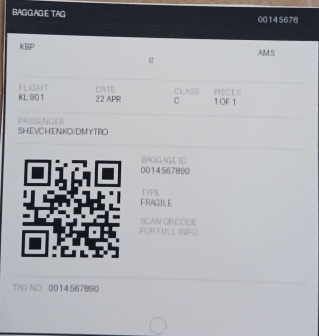LPN_bottom: (46, 282, 101, 295)
LPN_right: (138, 164, 193, 178)
